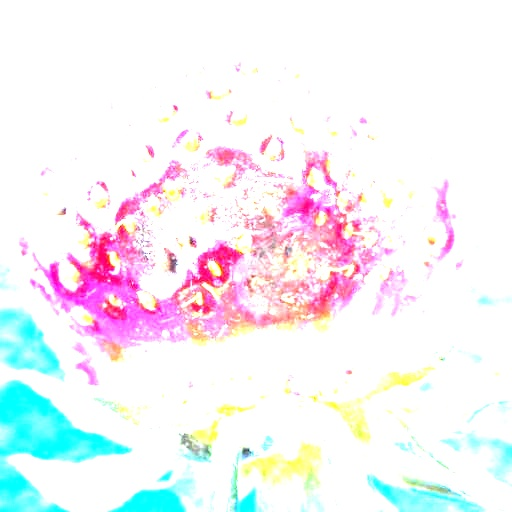Anthracnose Fruit Rot: (18, 114, 441, 358)
